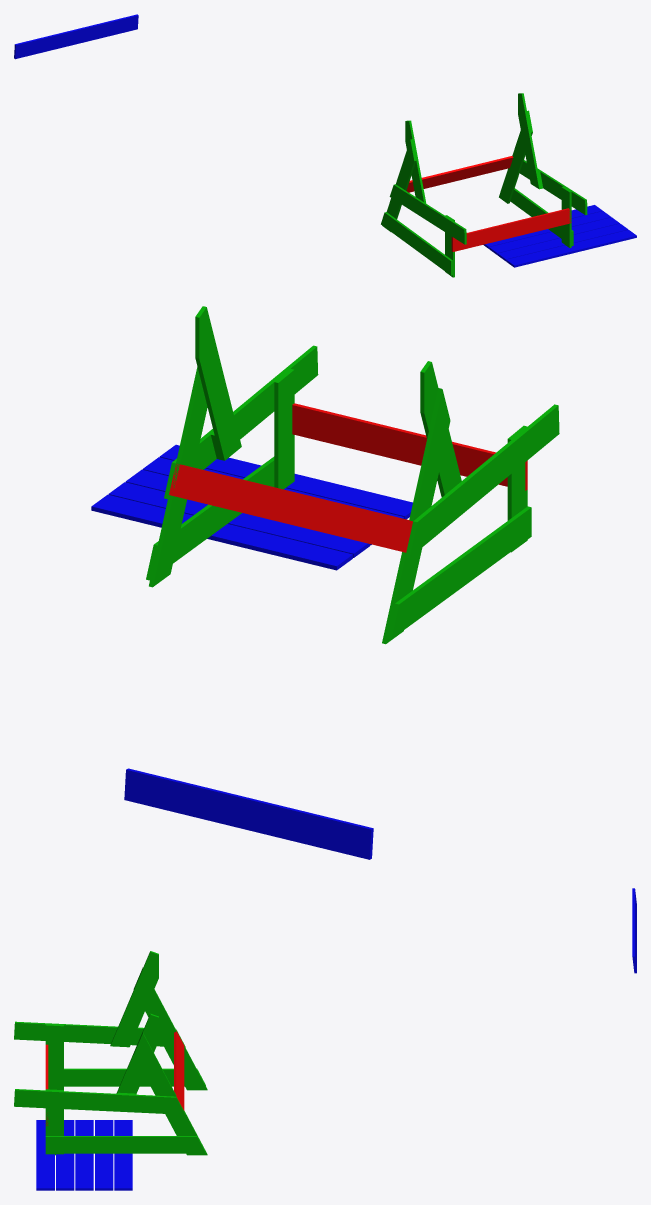
The model's file is result.glb.
3 renders of one model, top to bottom at view 1: azimuth 30°, elevation 25°; view 2: azimuth 150°, elevation 25°; view 3: azimuth 270°, elevation 25°, orthographic. The views are drawn at different scales.
Visible parts, largest first — view 1: c04a3bd2-b1b7-46f2-b388-1f2323fb9135__Box_8, 31b8a7b7-47f8-49d2-ba7a-2c13ccd81dff__Plane_1, 228e2173-a1ab-43e4-a48a-3d42f374a363__Box_5, 28897f55-9022-4e92-9c70-80af92463b35__undefined, a84f3555-dbdc-44dd-a3b5-e8c1daa1185e__undefined, bef773a7-259a-4b41-a040-64ccf7c41e5a__Plane_2, fdee25a4-406a-4d77-8d50-3be7dbb3e3d4__undefined (×2), 26e29ff8-6f91-4b04-9d1c-817ac782c317__Box_1, 87c1b6f9-0beb-4b8a-9c9f-6c35b696ecb5__Box_2, 539ab8f7-0d2b-48d8-8b52-f7ce6980b81d__undefined, bb7c511b-ba29-4aa0-ab2f-a8f381f089ca__undefined, d1ad1104-1ba5-4a83-ba52-fdc1e3dec2ee__undefined (+4 smaller); view 2: c04a3bd2-b1b7-46f2-b388-1f2323fb9135__Box_8, bef773a7-259a-4b41-a040-64ccf7c41e5a__Plane_2, 31b8a7b7-47f8-49d2-ba7a-2c13ccd81dff__Plane_1, 28897f55-9022-4e92-9c70-80af92463b35__undefined, fdee25a4-406a-4d77-8d50-3be7dbb3e3d4__undefined (×2), a84f3555-dbdc-44dd-a3b5-e8c1daa1185e__undefined, b420807b-b0a8-4a22-8858-d79a8e2187cb__Box_4, d1ad1104-1ba5-4a83-ba52-fdc1e3dec2ee__undefined, 539ab8f7-0d2b-48d8-8b52-f7ce6980b81d__undefined, 2a6e9629-eb97-4db0-b4a7-6d2b2e6d1eaf__Box_3, bb7c511b-ba29-4aa0-ab2f-a8f381f089ca__undefined, 228e2173-a1ab-43e4-a48a-3d42f374a363__Box_5 (+5 smaller); view 3: bb7c511b-ba29-4aa0-ab2f-a8f381f089ca__undefined, e5dbe14e-6d09-498e-a6a9-67eea7a0a1b7__Plane, fdee25a4-406a-4d77-8d50-3be7dbb3e3d4__undefined (×2), 312d3068-8e0e-4f0e-96b7-4d7951614664__undefined, 28897f55-9022-4e92-9c70-80af92463b35__undefined, d1ad1104-1ba5-4a83-ba52-fdc1e3dec2ee__undefined, a84f3555-dbdc-44dd-a3b5-e8c1daa1185e__undefined, c36c221a-4c9c-49c2-a29e-19b1809b8c48__undefined, 539ab8f7-0d2b-48d8-8b52-f7ce6980b81d__undefined, 228e2173-a1ab-43e4-a48a-3d42f374a363__Box_5, 87c1b6f9-0beb-4b8a-9c9f-6c35b696ecb5__Box_2, b420807b-b0a8-4a22-8858-d79a8e2187cb__Box_4 (+4 smaller).
Boxes of the visible parts, x1,y1,x2,y2 form: c04a3bd2-b1b7-46f2-b388-1f2323fb9135__Box_8: (14, 14, 138, 59); 31b8a7b7-47f8-49d2-ba7a-2c13ccd81dff__Plane_1: (451, 208, 571, 251); 228e2173-a1ab-43e4-a48a-3d42f374a363__Box_5: (506, 230, 636, 267); 28897f55-9022-4e92-9c70-80af92463b35__undefined: (389, 184, 466, 244); a84f3555-dbdc-44dd-a3b5-e8c1daa1185e__undefined: (381, 212, 452, 275); bef773a7-259a-4b41-a040-64ccf7c41e5a__Plane_2: (406, 156, 513, 192); fdee25a4-406a-4d77-8d50-3be7dbb3e3d4__undefined (×2): (499, 110, 532, 203); 26e29ff8-6f91-4b04-9d1c-817ac782c317__Box_1: (497, 223, 628, 261); 87c1b6f9-0beb-4b8a-9c9f-6c35b696ecb5__Box_2: (489, 217, 619, 254); 539ab8f7-0d2b-48d8-8b52-f7ce6980b81d__undefined: (518, 93, 541, 189); bb7c511b-ba29-4aa0-ab2f-a8f381f089ca__undefined: (519, 160, 587, 215); d1ad1104-1ba5-4a83-ba52-fdc1e3dec2ee__undefined: (382, 139, 416, 231); c04a3bd2-b1b7-46f2-b388-1f2323fb9135__Box_8: (124, 768, 373, 859); bef773a7-259a-4b41-a040-64ccf7c41e5a__Plane_2: (169, 463, 412, 552); 31b8a7b7-47f8-49d2-ba7a-2c13ccd81dff__Plane_1: (292, 403, 527, 490); 28897f55-9022-4e92-9c70-80af92463b35__undefined: (405, 404, 559, 557); fdee25a4-406a-4d77-8d50-3be7dbb3e3d4__undefined (×2): (149, 367, 207, 587); a84f3555-dbdc-44dd-a3b5-e8c1daa1185e__undefined: (387, 506, 531, 639); b420807b-b0a8-4a22-8858-d79a8e2187cb__Box_4: (91, 494, 352, 570); d1ad1104-1ba5-4a83-ba52-fdc1e3dec2ee__undefined: (382, 388, 450, 644); 539ab8f7-0d2b-48d8-8b52-f7ce6980b81d__undefined: (195, 306, 241, 460); 2a6e9629-eb97-4db0-b4a7-6d2b2e6d1eaf__Box_3: (108, 482, 369, 557); bb7c511b-ba29-4aa0-ab2f-a8f381f089ca__undefined: (164, 345, 318, 499); 228e2173-a1ab-43e4-a48a-3d42f374a363__Box_5: (159, 444, 412, 519); bb7c511b-ba29-4aa0-ab2f-a8f381f089ca__undefined: (14, 1089, 185, 1114); e5dbe14e-6d09-498e-a6a9-67eea7a0a1b7__Plane: (45, 1136, 205, 1153); fdee25a4-406a-4d77-8d50-3be7dbb3e3d4__undefined (×2): (133, 1032, 207, 1155); 312d3068-8e0e-4f0e-96b7-4d7951614664__undefined: (110, 951, 158, 1047); 28897f55-9022-4e92-9c70-80af92463b35__undefined: (14, 1021, 185, 1047); d1ad1104-1ba5-4a83-ba52-fdc1e3dec2ee__undefined: (133, 967, 207, 1090); a84f3555-dbdc-44dd-a3b5-e8c1daa1185e__undefined: (64, 1068, 205, 1086); c36c221a-4c9c-49c2-a29e-19b1809b8c48__undefined: (45, 1024, 63, 1089); 539ab8f7-0d2b-48d8-8b52-f7ce6980b81d__undefined: (116, 1013, 158, 1093); 228e2173-a1ab-43e4-a48a-3d42f374a363__Box_5: (36, 1120, 54, 1190); 87c1b6f9-0beb-4b8a-9c9f-6c35b696ecb5__Box_2: (75, 1120, 93, 1190); b420807b-b0a8-4a22-8858-d79a8e2187cb__Box_4: (114, 1120, 132, 1190).
Size of the model in its own units: 2315 by 758 by 3040.
